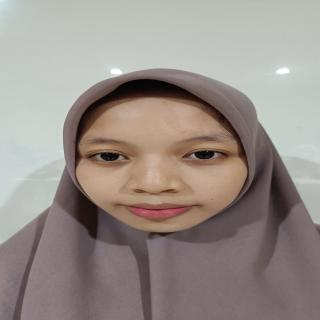Netral: (72, 88, 257, 236)
